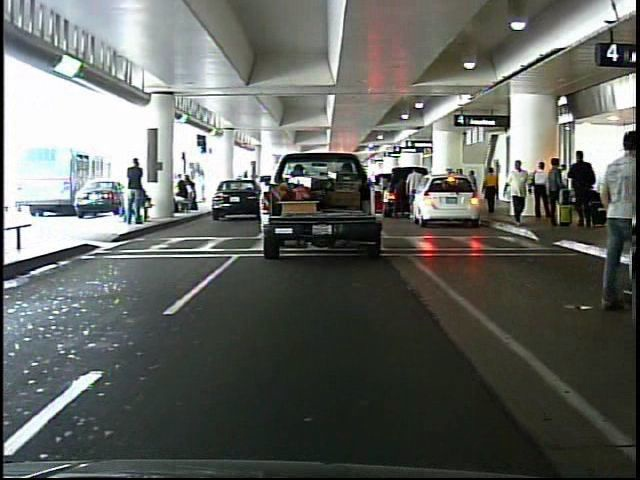person: (506, 156, 538, 230), (601, 161, 634, 221), (127, 158, 151, 228), (573, 147, 593, 230), (404, 164, 428, 221), (546, 156, 564, 228), (532, 161, 551, 222), (484, 163, 502, 217)
